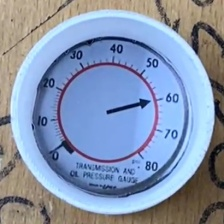gauge: (34, 38, 188, 197)
